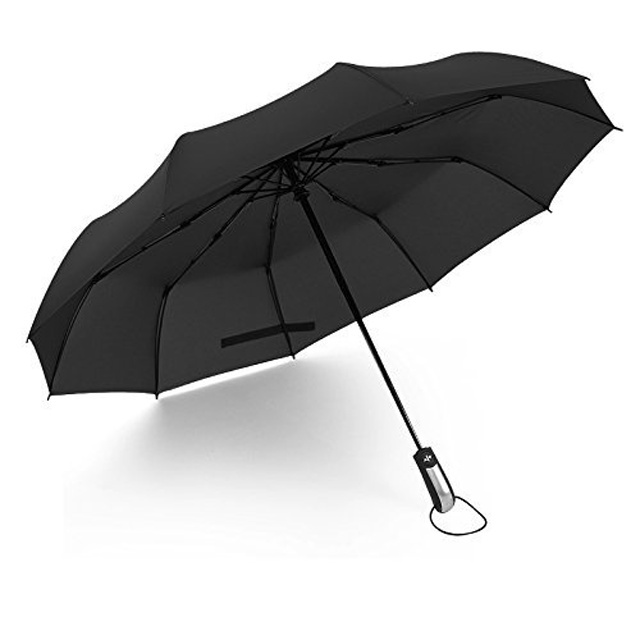umbrella: (18, 39, 625, 519)
